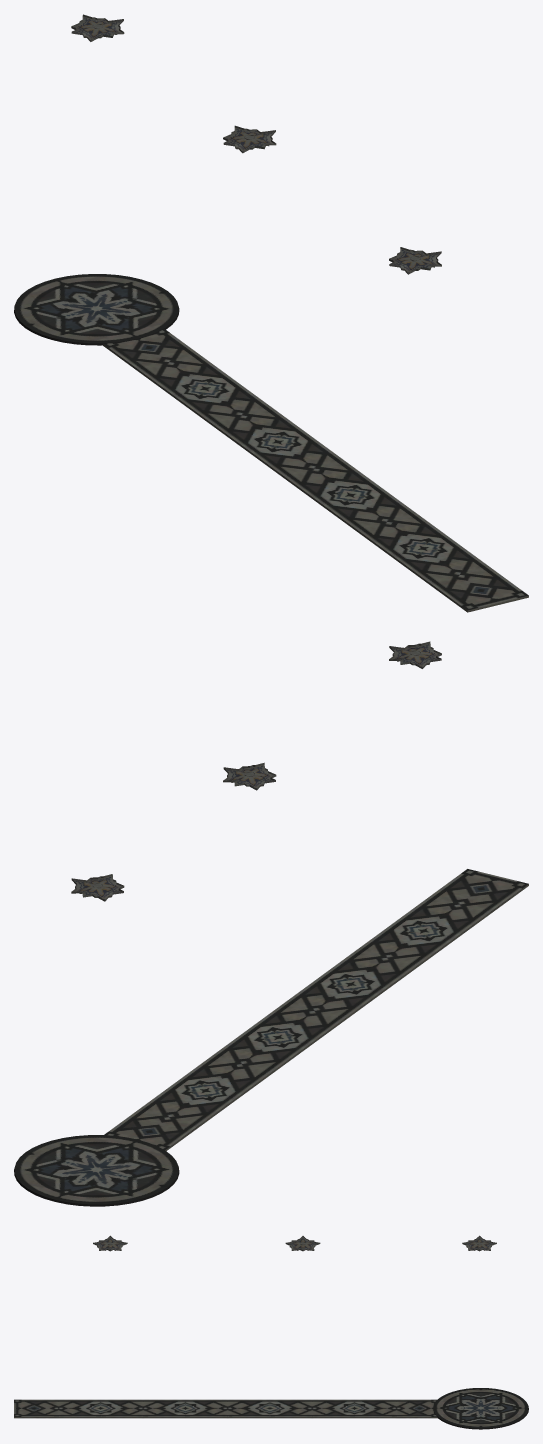
Rendered from Indoor_MdBuild_Church01_Ground_1212_0.fbx.
3 renders of one model, top to bottom at view 1: azimuth 30°, elevation 25°; view 2: azimuth 150°, elevation 25°; view 3: azimuth 270°, elevation 25°, orthographic. The views are drawn at different scales.
Visible parts, largest first — view 1: Indoor_MdBuild_Church01_Ground_1212_0; view 2: Indoor_MdBuild_Church01_Ground_1212_0; view 3: Indoor_MdBuild_Church01_Ground_1212_0.
Boxes of the visible parts, x1=… form: Indoor_MdBuild_Church01_Ground_1212_0: x1=14, y1=14, x2=528, y2=612; Indoor_MdBuild_Church01_Ground_1212_0: x1=14, y1=641, x2=528, y2=1206; Indoor_MdBuild_Church01_Ground_1212_0: x1=14, y1=1235, x2=528, y2=1429.
Size of the model in its own units: 11.99 by 22.91 by 64.16.
